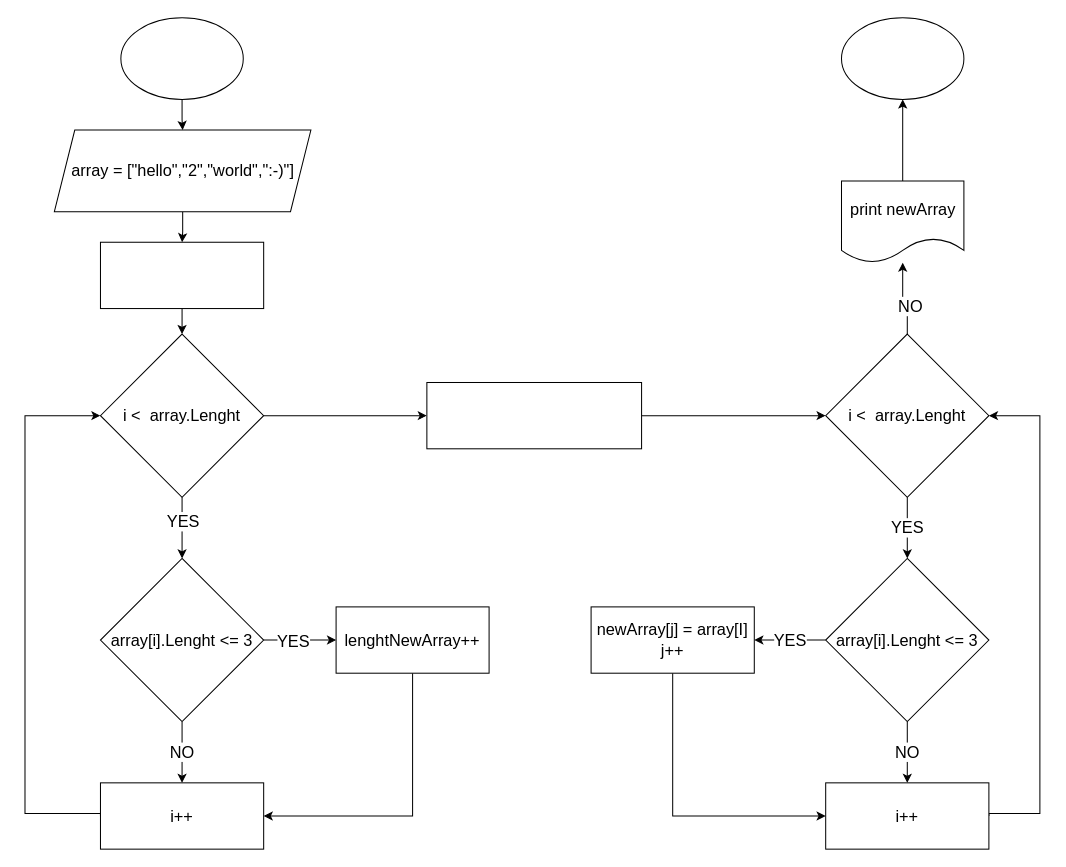
This 1066x867 diagram has some shape labels left out. The shapes that lost their labels are listed below. From the top down, each one's centre as x and y in pixels, then its label:
At point 181,58: "start".
At point 902,58: "finish".
At point 181,275: "lenghtNewArray = 0 i = 0".
At point 534,415: "newArray[lenghtNewArray] i = 0 j = 0".
